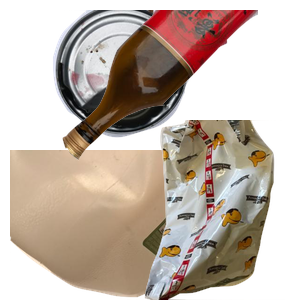glass: (60, 10, 300, 163)
metal: (50, 10, 262, 140)
plastic: (10, 150, 250, 300)
trash: (127, 120, 300, 300)
